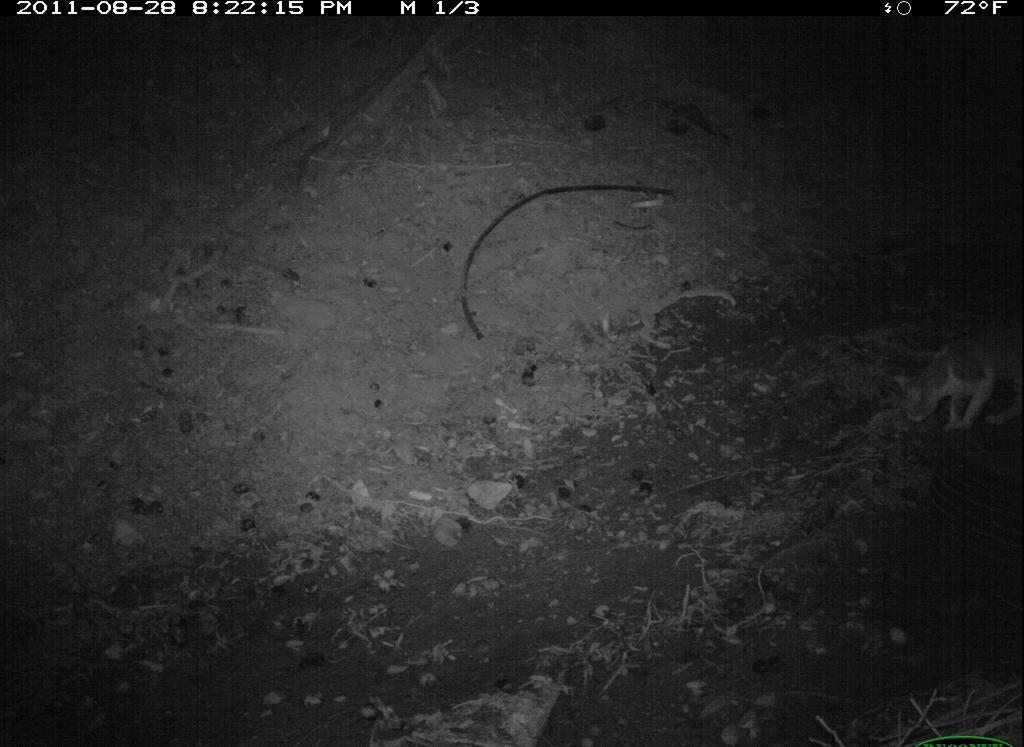cat: (890, 323, 1019, 457)
